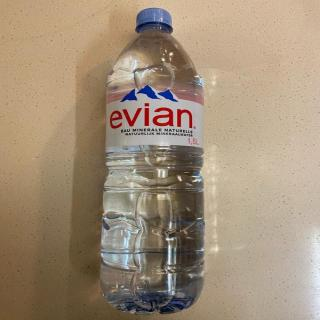Anorganik: (100, 5, 210, 320)
